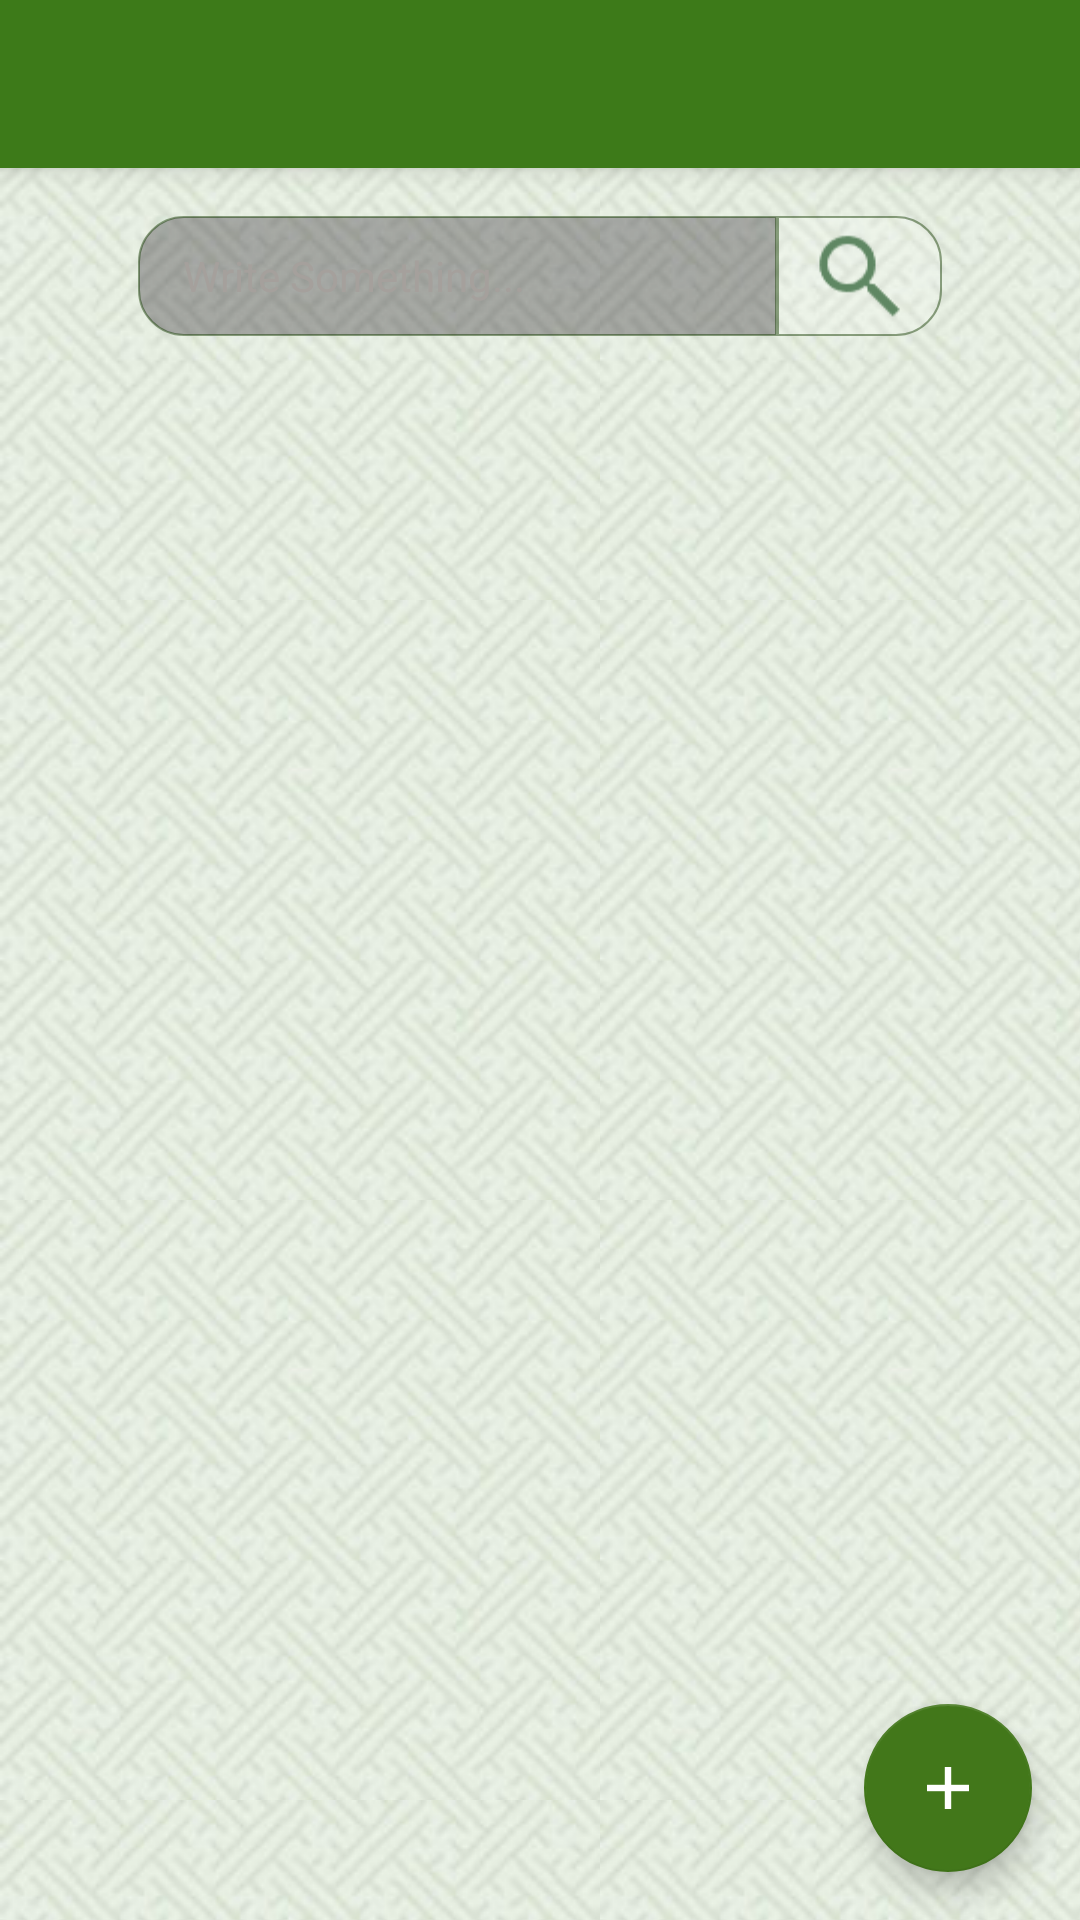

Icon click points for this 1080 x 1920 phone screenshot, format (x,y):
plus: (948,1788)
search: (859,276)
